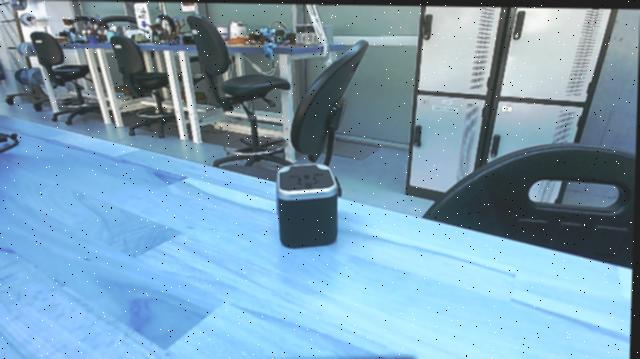adapter: (268, 157, 348, 249)
